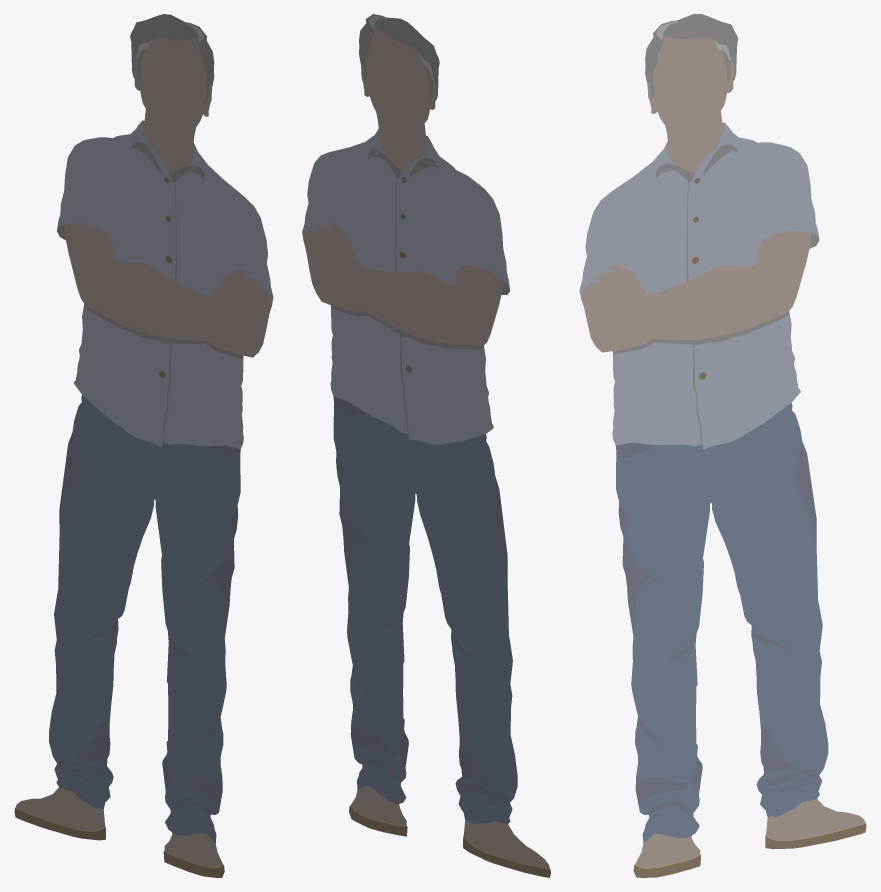
File: agent.glb
3 renders of one model, left to right at view 1: azimuth 30°, elevation 25°; view 2: azimuth 210°, elevation 25°; view 3: azimuth 270°, elevation 25°, orthographic. The views are drawn at different scales.
Parts seen in each view (by area): view 1: Niraj; view 2: Niraj; view 3: Niraj.
Part boxes in pixels (box(x1,y1,x2,y2)): Niraj: box(14, 14, 273, 877); Niraj: box(302, 14, 550, 877); Niraj: box(579, 14, 866, 877).
Size of the model in its own units: 0.2554 by 1.79 by 0.5443.
